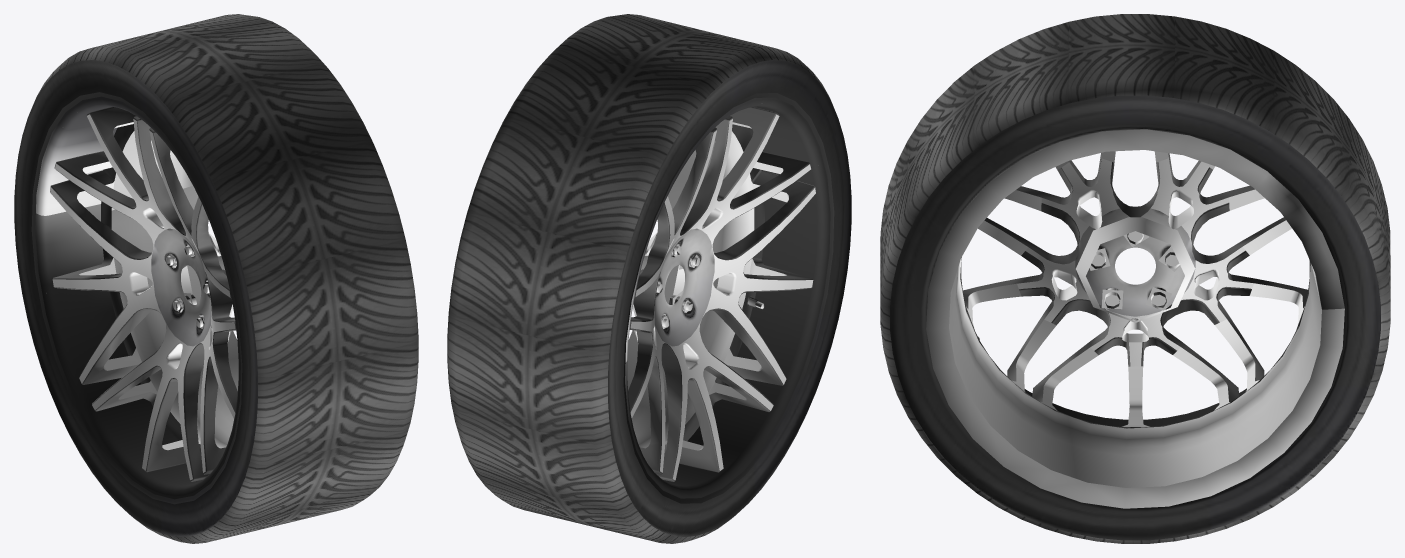
File: LlantaIzqFront.obj
3 views of the same model, side by side, from view 1: azimuth 30°, elevation 25°; view 2: azimuth 150°, elevation 25°; view 3: azimuth 270°, elevation 25° (orthographic).
Parts seen in each view (by area): view 1: wheel_lf_pivot; view 2: wheel_lf_pivot; view 3: wheel_lf_pivot.
Part boxes in pixels (box(x1,y1,x2,y2)): wheel_lf_pivot: box(14, 14, 418, 543); wheel_lf_pivot: box(447, 14, 851, 543); wheel_lf_pivot: box(880, 14, 1390, 543).
Bounding box in the file's own units: 2 × 5.39 × 5.39.
